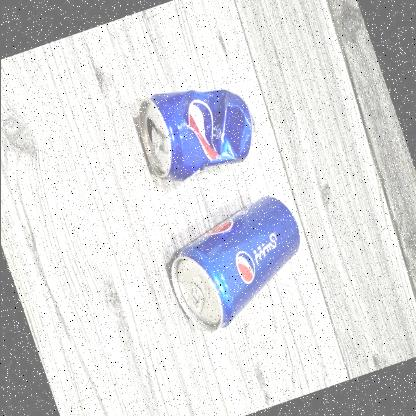Can: (152, 184, 326, 346), (126, 66, 266, 196)
